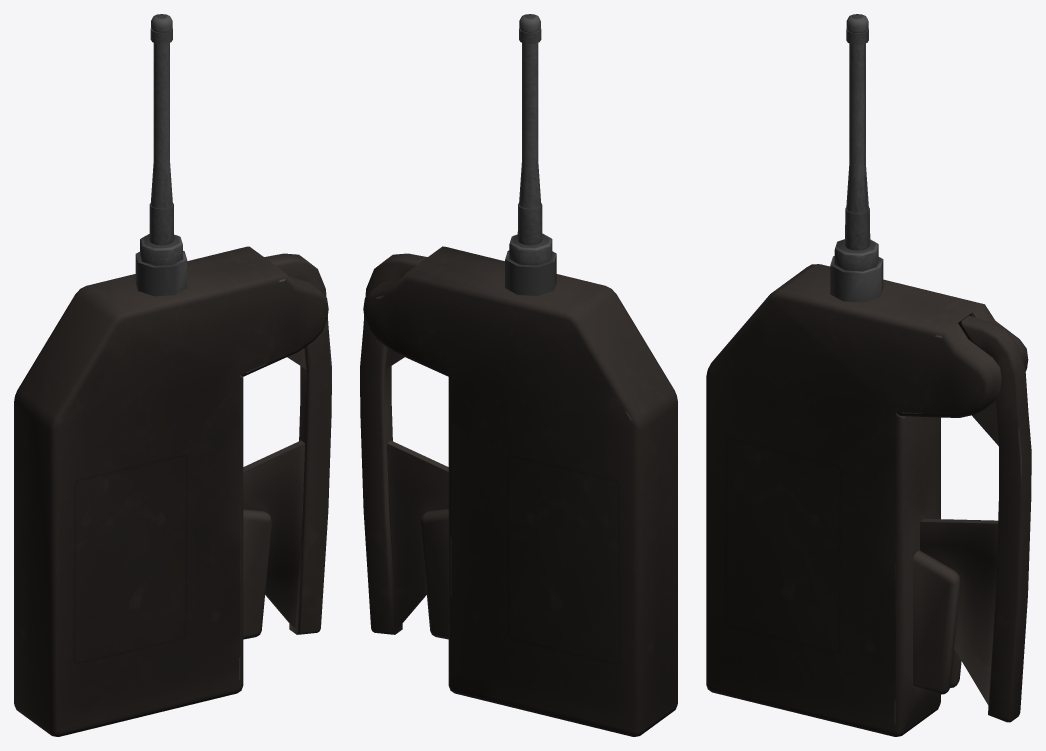
File: detonator_WM.fbx
The picture shows the model from 3 angles, left to right: view 1: azimuth 30°, elevation 25°; view 2: azimuth 150°, elevation 25°; view 3: azimuth 330°, elevation 25°; orthographic projection. The views are drawn at different scales.
Visible parts, largest first — view 1: Cube.004; view 2: Cube.004; view 3: Cube.004.
Boxes of the visible parts, x1,y1,x2,y2 form: Cube.004: (14, 14, 331, 736); Cube.004: (360, 14, 677, 736); Cube.004: (706, 14, 1031, 736).
Size of the model in its own units: 330 by 723 by 80.
